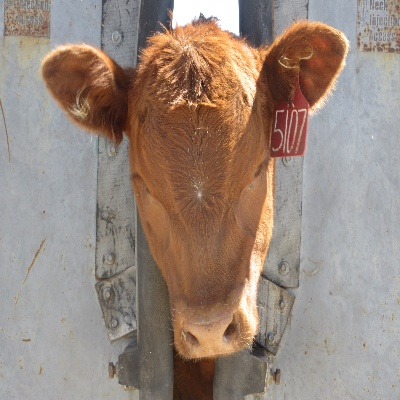fidget_spinner: (167, 304, 254, 363)
